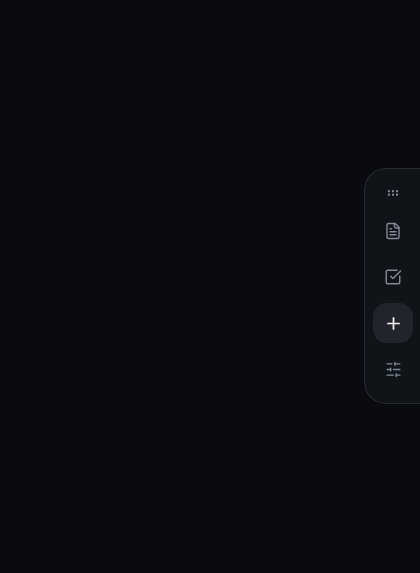
Scenario: App (fluxos integrados do dock) › prioriza Escape fechando primeiro o menu de contexto e só depois recolhendo o painel
Right-click the navigation bar named "Barra rápida QuickNote".
right_click(393, 288)  # box top-left (373, 186), bottom-right (413, 389)
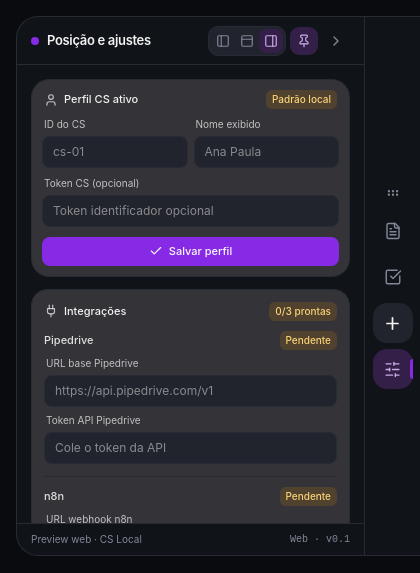
expect the heading "Posição e ajustes" is shown: met, box top-left (47, 31), bottom-right (151, 50)
Right-click the navigation bar named "Barra rápida QuickNote".
right_click(392, 286)  # box top-left (364, 17), bottom-right (419, 555)
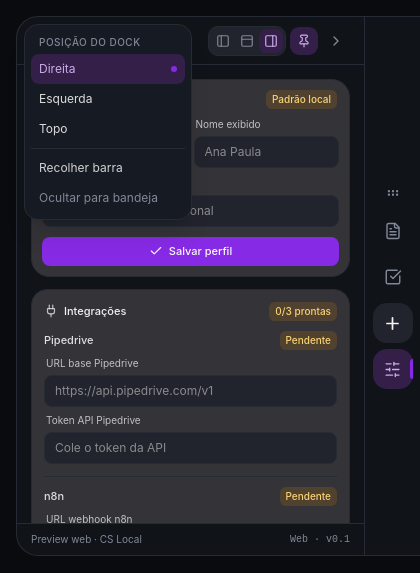
Press Escape
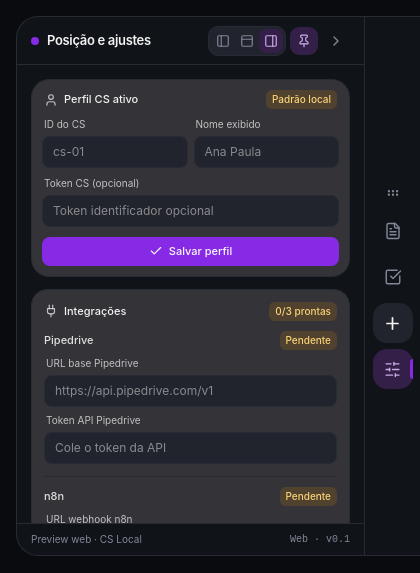
expect the heading "Posição e ajustes" is shown: met, box top-left (47, 31), bottom-right (151, 50)
expect the text "Posição do dock" is gone: met
Press Escape
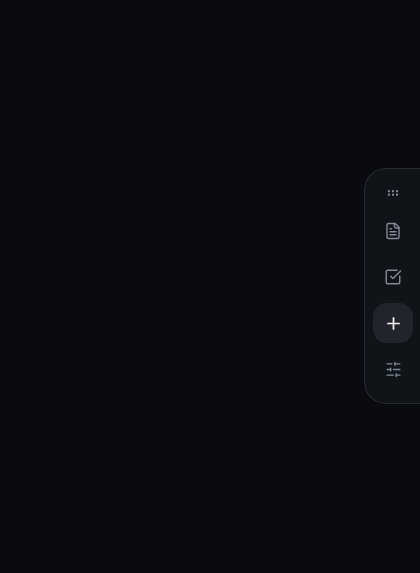
expect the heading "Posição e ajustes" is gone: met
